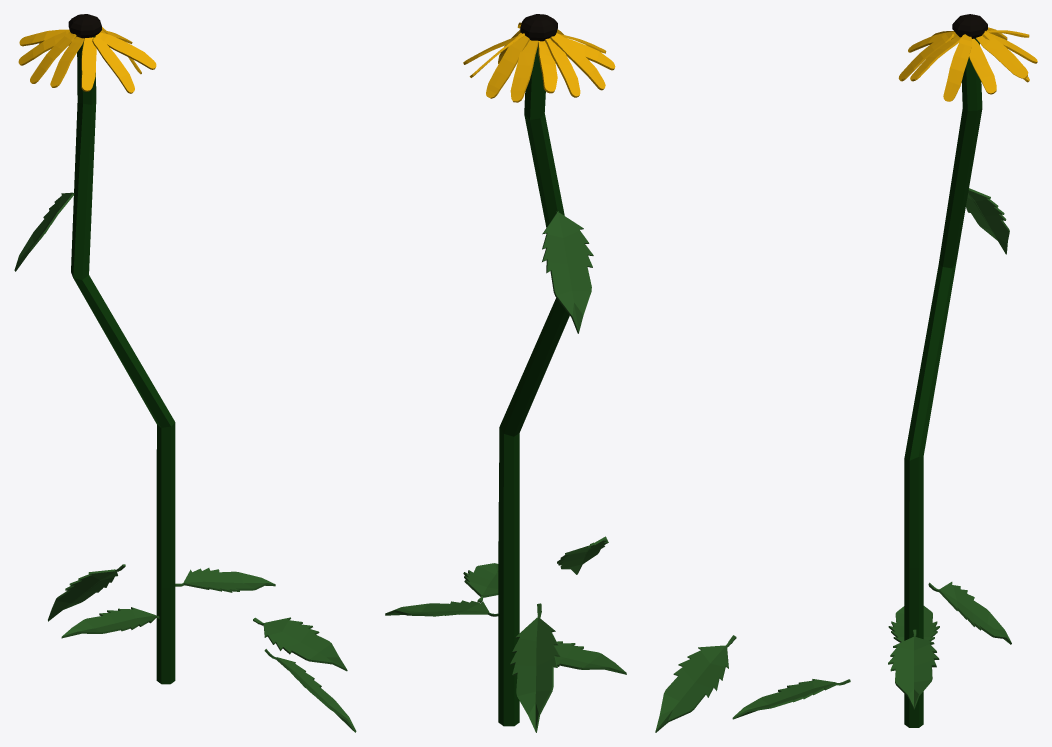
The model's file is BlackEyedSusanDying.fbx.
3 renders of one model, left to right at view 1: azimuth 30°, elevation 25°; view 2: azimuth 150°, elevation 25°; view 3: azimuth 270°, elevation 25°, orthographic. The views are drawn at different scales.
Visible parts, largest first — view 1: Cylinder, Plane.016, Plane.012, Plane.015, Plane.013, Plane.018, Plane.017, Plane.003, Plane.001, Plane.002, Sphere, Plane.011 (+1 smaller); view 2: Cylinder, Plane.017, Plane.013, Plane.012, Plane.015, Plane.008, Plane.016, Plane.007, Plane.011, Sphere, Plane.018, Plane.005 (+2 smaller); view 3: Cylinder, Plane.018, Plane.015, Plane.013, Plane.017, Plane.016, Plane, Plane.010, Plane.012, Plane.009, Sphere.
Part boxes in pixels (x1,y1,x2,y2): Cylinder: [71, 36, 175, 684]; Plane.016: [253, 617, 347, 671]; Plane.012: [61, 607, 159, 638]; Plane.015: [183, 568, 275, 592]; Plane.013: [48, 564, 125, 621]; Plane.018: [264, 649, 356, 732]; Plane.017: [14, 192, 74, 271]; Plane.003: [92, 36, 134, 93]; Plane.001: [95, 32, 156, 69]; Plane.002: [81, 37, 96, 91]; Sphere: [68, 14, 101, 38]; Plane.011: [30, 32, 76, 83]; Cylinder: [498, 46, 569, 726]; Plane.017: [542, 211, 593, 333]; Plane.013: [510, 603, 560, 732]; Plane.012: [554, 641, 626, 674]; Plane.015: [385, 600, 488, 616]; Plane.008: [486, 33, 529, 98]; Plane.016: [463, 563, 498, 602]; Plane.007: [510, 40, 538, 102]; Plane.011: [550, 33, 605, 90]; Sphere: [520, 14, 557, 41]; Plane.018: [557, 536, 608, 574]; Plane.005: [544, 38, 580, 97]; Cylinder: [904, 38, 982, 727]; Plane.018: [655, 635, 736, 732]; Plane.015: [888, 637, 939, 709]; Plane.013: [928, 582, 1011, 644]; Plane.017: [966, 188, 1009, 254]; Plane.016: [732, 679, 850, 719]; Plane: [943, 34, 971, 101]; Plane.010: [976, 31, 1028, 78]; Plane.012: [888, 606, 939, 642]; Plane.009: [969, 38, 996, 94]; Sphere: [952, 14, 987, 38].
Bounding box in the file's own units: 297 × 851 × 434.
